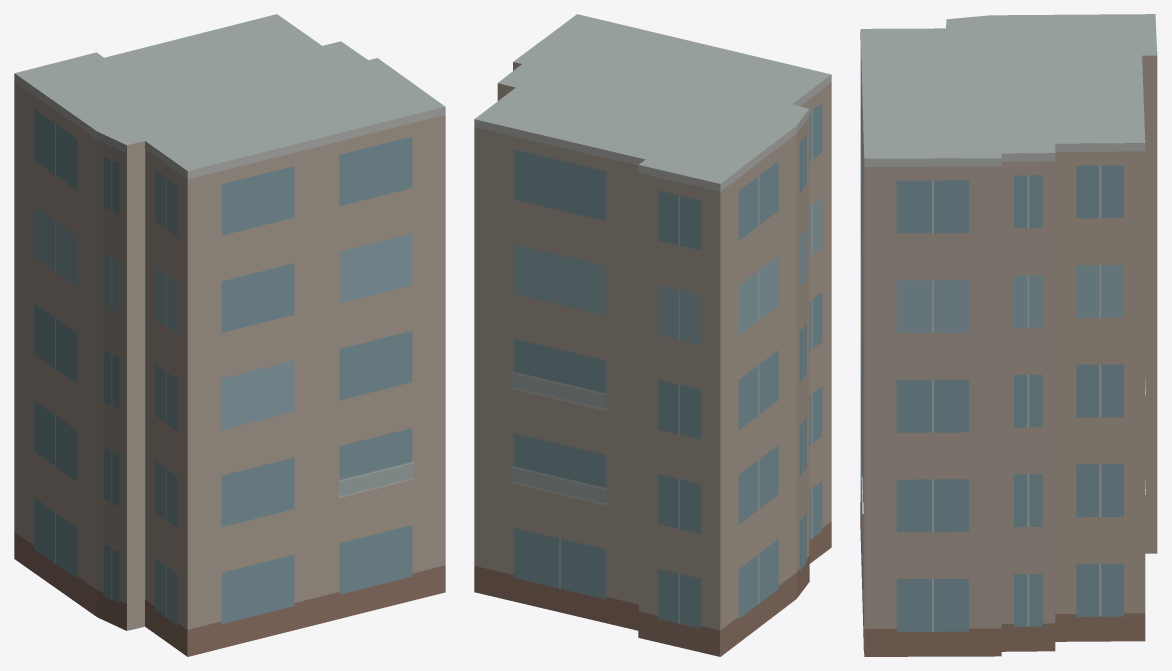
File: survey-upis-32578952.glb
The picture shows the model from 3 angles, left to right: view 1: azimuth 30°, elevation 25°; view 2: azimuth 150°, elevation 25°; view 3: azimuth 270°, elevation 25°; orthographic projection. The views are drawn at different scales.
Visible parts, largest first — view 1: survey-upis-32578952.tmp; view 2: survey-upis-32578952.tmp; view 3: survey-upis-32578952.tmp.
Boxes of the visible parts, x1,y1,x2,y2 form: survey-upis-32578952.tmp: (14, 14, 445, 656); survey-upis-32578952.tmp: (474, 14, 831, 656); survey-upis-32578952.tmp: (860, 14, 1157, 656).
Bounding box in the file's own units: 9.11 × 14.6 × 7.89.
